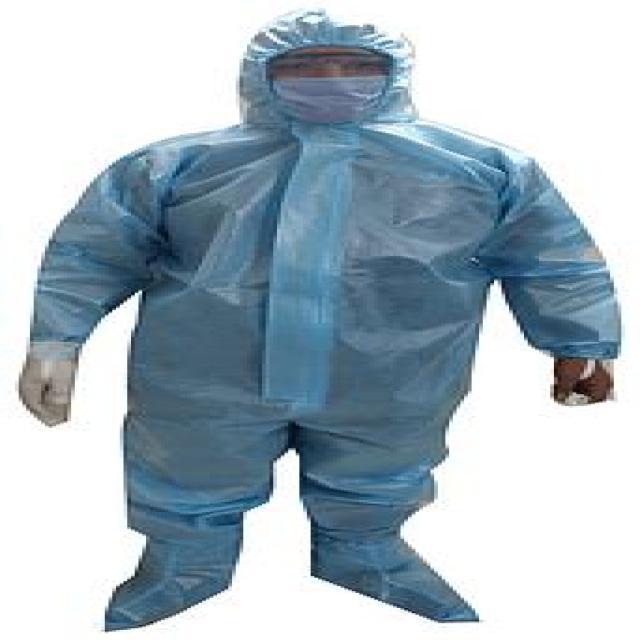Coverall: (0, 6, 625, 640)
Gloves: (0, 332, 109, 418)
Mask: (225, 62, 487, 130)
